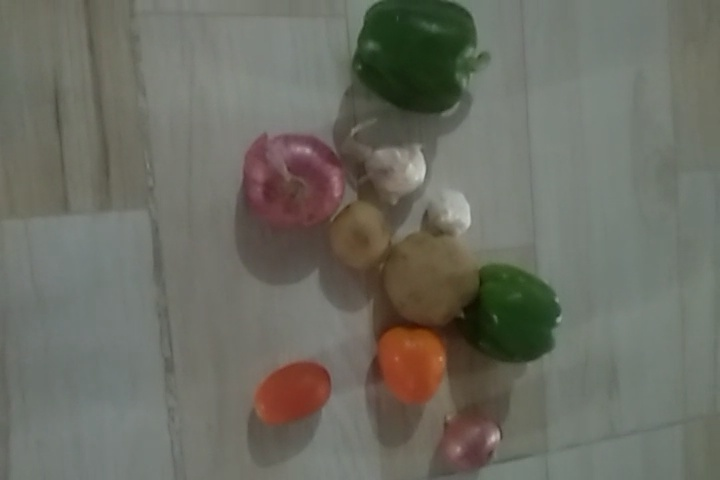capsicum: (344, 1, 475, 114), (468, 261, 562, 367)
garlic: (350, 145, 439, 204), (423, 192, 475, 232)
onion: (240, 133, 343, 236), (434, 410, 500, 471)
potato: (384, 227, 481, 329), (330, 203, 390, 279)
tomato: (256, 359, 336, 431), (380, 325, 451, 403)
